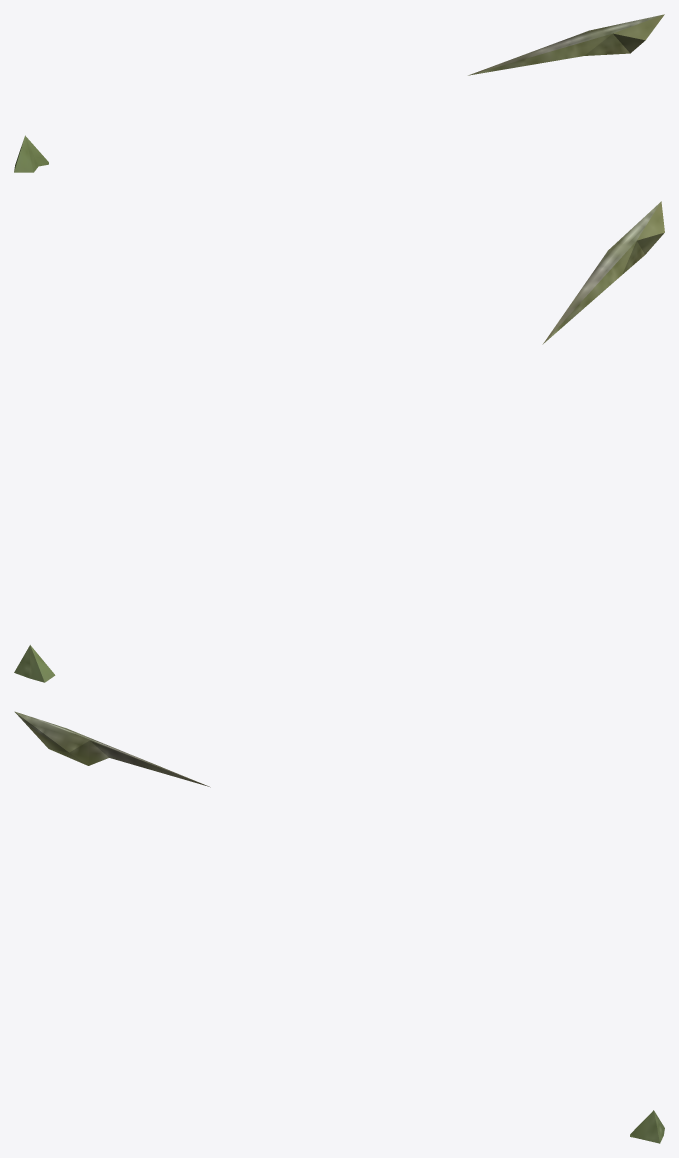
3 views of the same model, one above another, from view 1: azimuth 90°, elevation 25°; view 2: azimuth 150°, elevation 25°; view 3: azimuth 270°, elevation 25° (orthographic). The views are drawn at different scales.
Size of the model in its own units: 7.99 by 7.09 by 14.54.
1 material, 1 textured.
